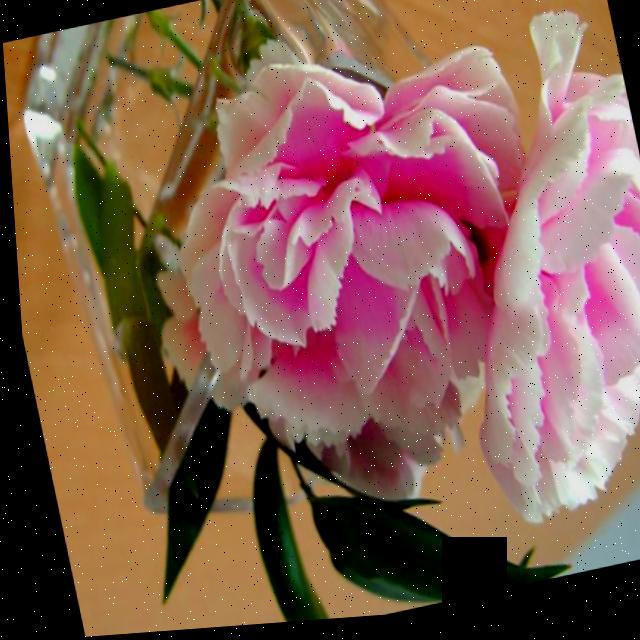carnation: (145, 19, 555, 487), (418, 20, 640, 539)
